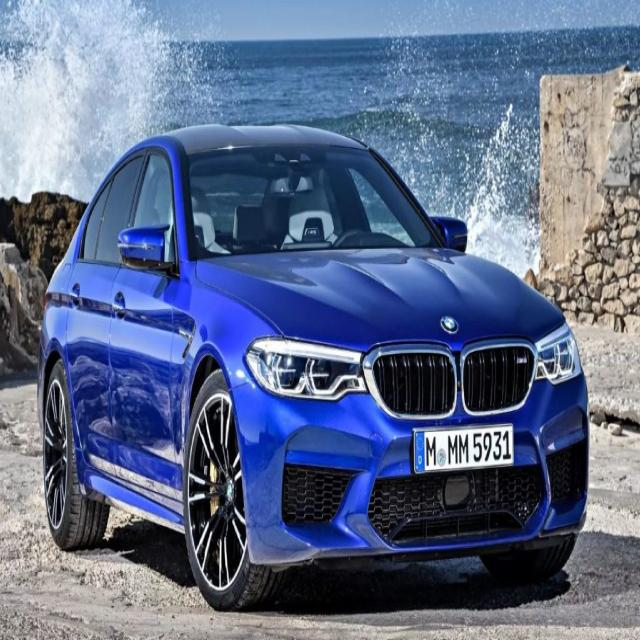number-plates: (412, 421, 514, 479)
